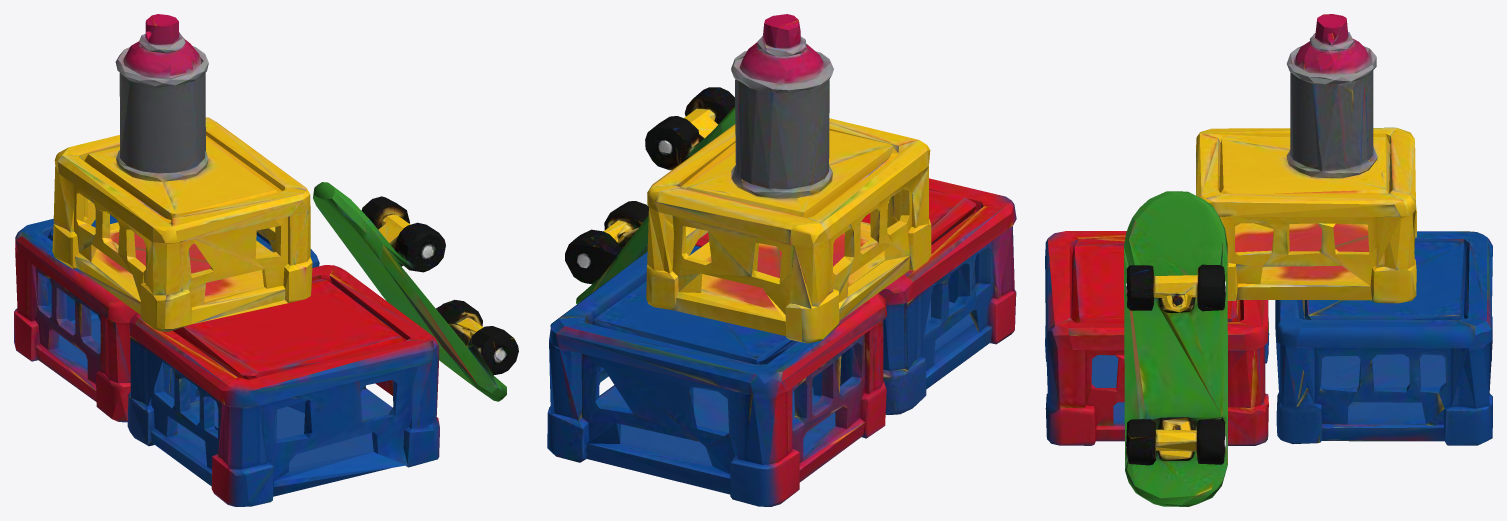
Rendered from cy-kasser.glb.
3 views of the same model, side by side, from view 1: azimuth 30°, elevation 25°; view 2: azimuth 150°, elevation 25°; view 3: azimuth 270°, elevation 25° (orthographic). The views are drawn at different scales.
Bounding box in the file's own units: 1.59 × 1.72 × 1.9.
1 material, 1 textured.
